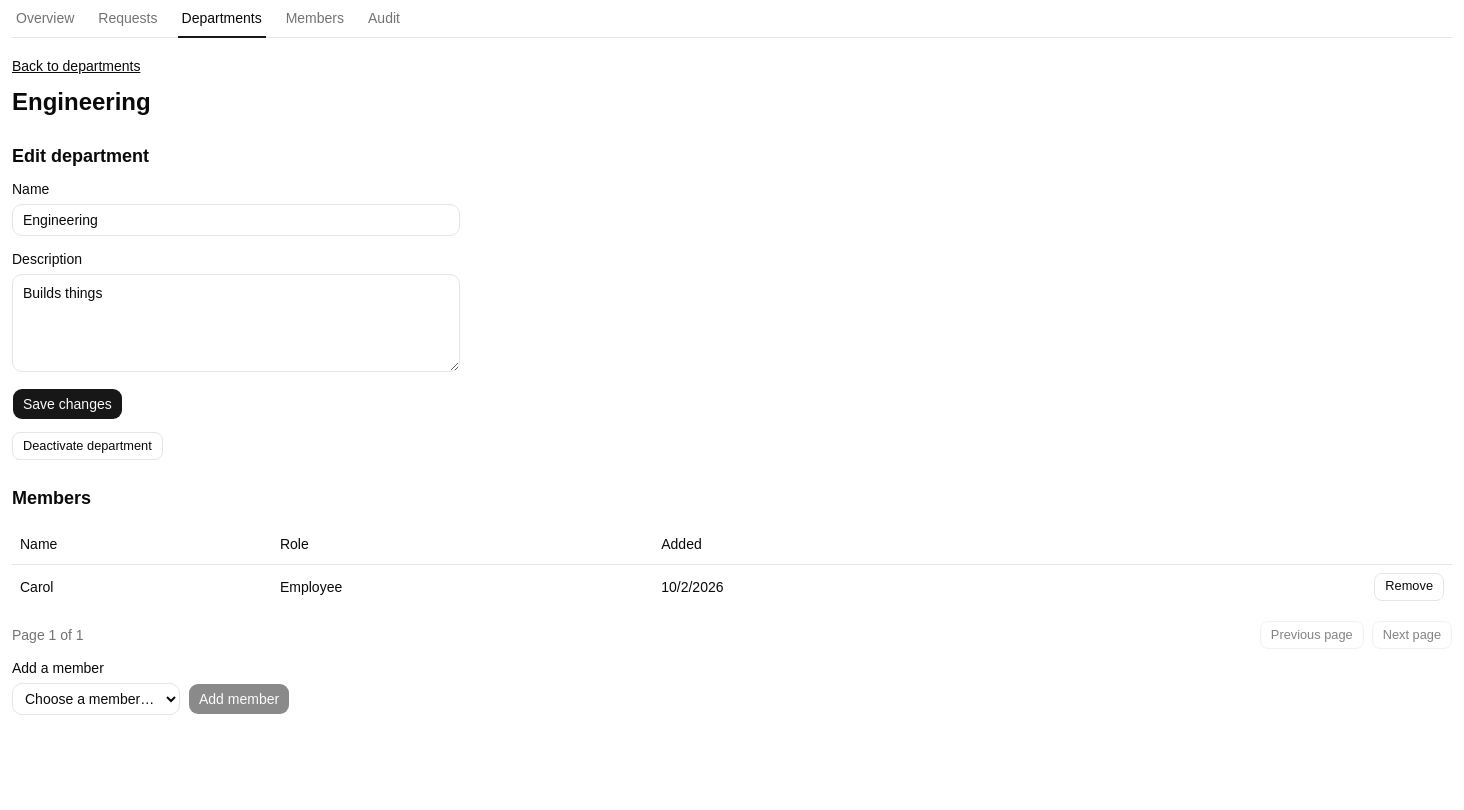
DepartmentDetailPage › saves edits with the version it loaded and explains a conflict
Step 1. Replace the text in the field labelled "Name" with "Platform" → (236, 220), box [12,204,460,236]
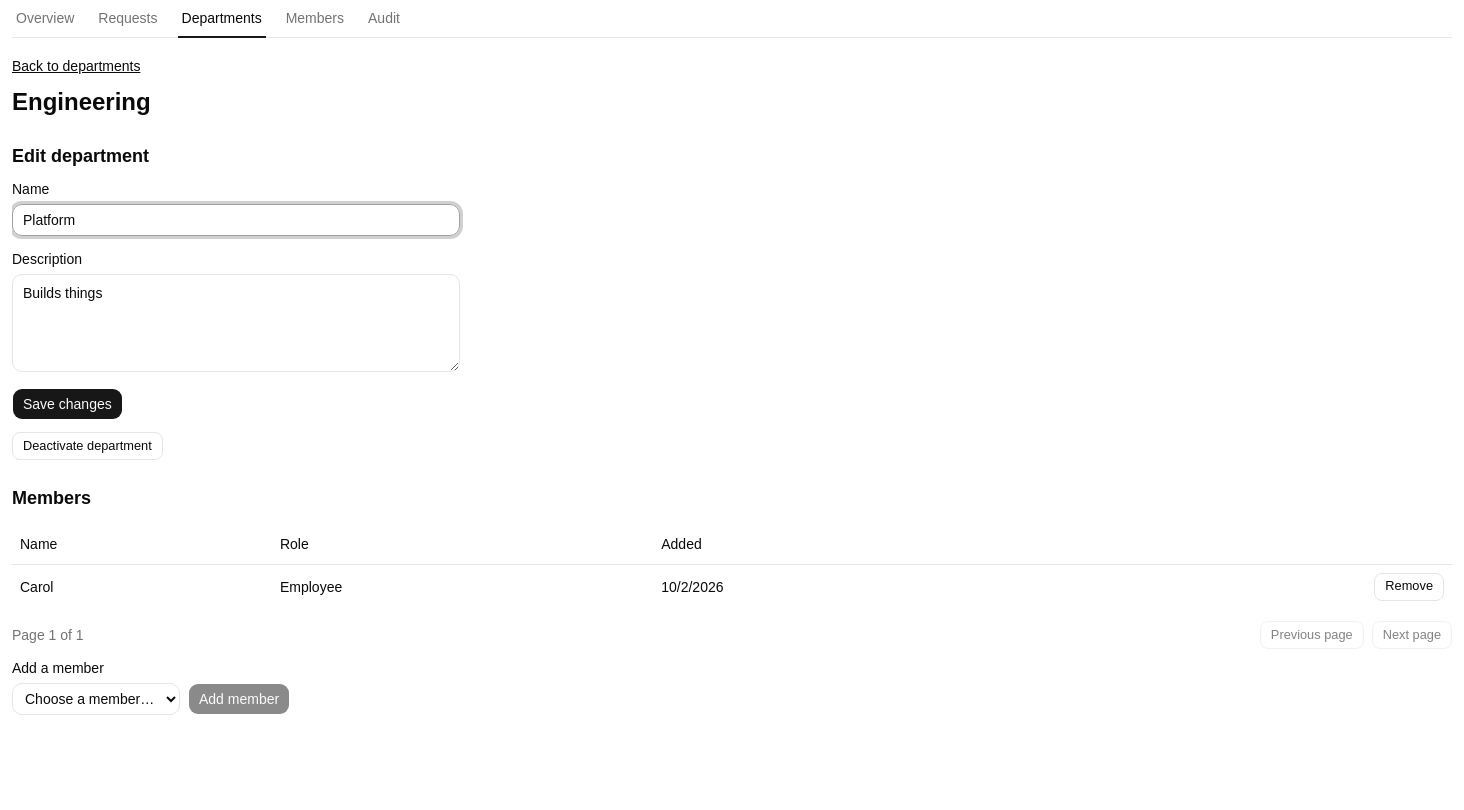
Step 2. Click the button "Save changes" → (67, 404), box [12,388,123,420]
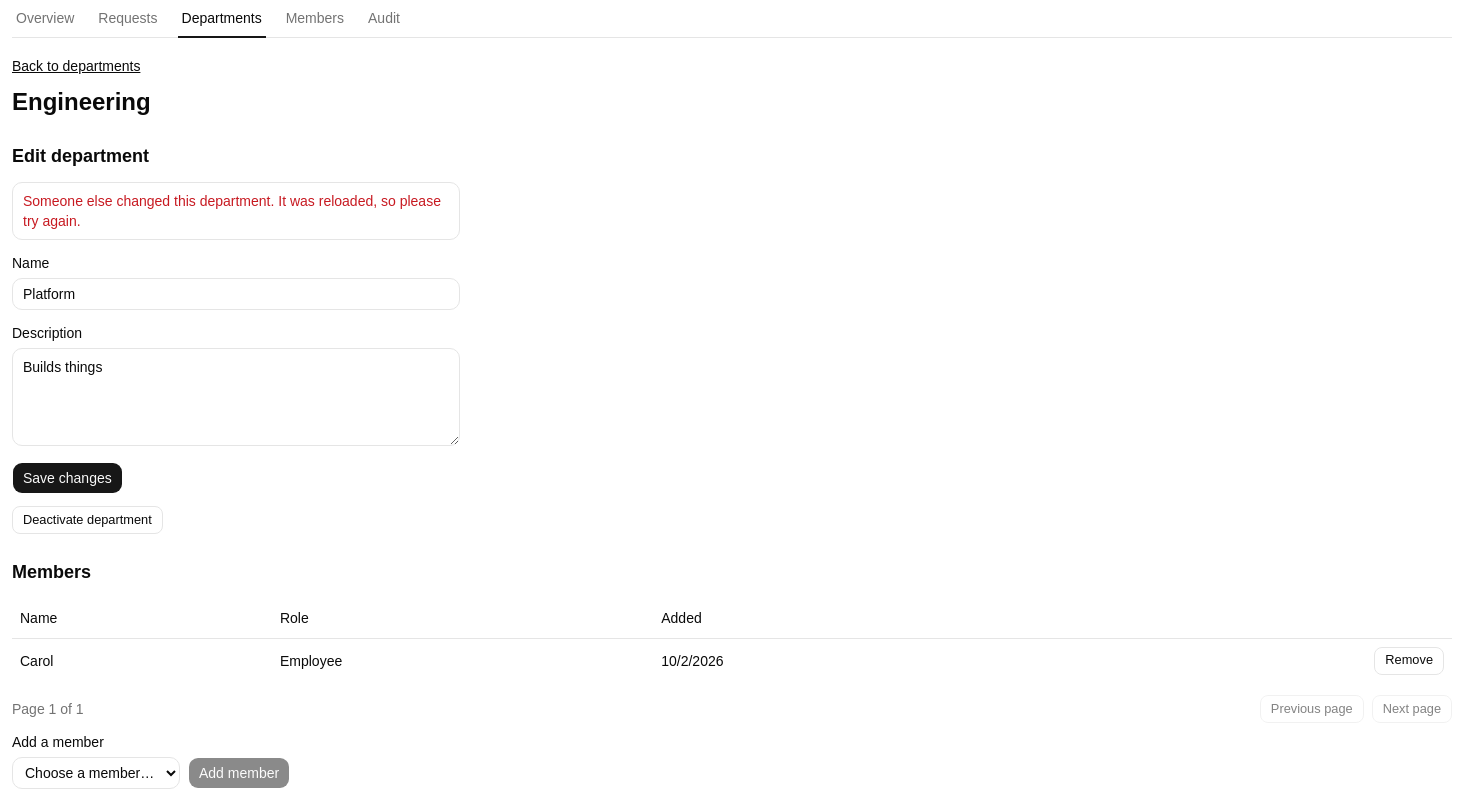
Check: the text "Someone else changed this department" is shown, box [23,193,441,229]
